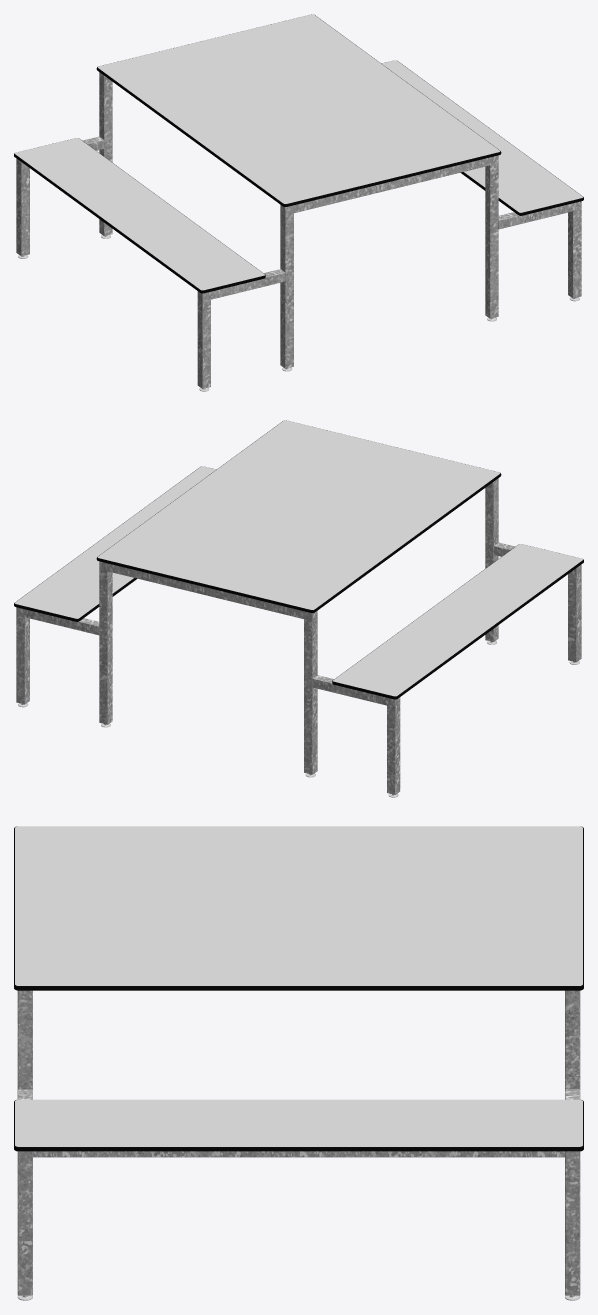
File: sonneta-150.glb
3 renders of one model, top to bottom at view 1: azimuth 30°, elevation 25°; view 2: azimuth 150°, elevation 25°; view 3: azimuth 270°, elevation 25°, orthographic. The views are drawn at different scales.
Visible parts, largest first — view 1: Tischplatte, Sitzplatte, Gestell, HPL Kante; view 2: Tischplatte, Sitzplatte, Gestell, HPL Kante; view 3: Tischplatte, Sitzplatte, Gestell, HPL Kante.
Part boxes in pixels (box(x1,y1,x2,y2)): Tischplatte: box(97, 14, 500, 203); Sitzplatte: box(14, 60, 582, 290); Gestell: box(16, 72, 581, 388); HPL Kante: box(14, 14, 583, 293); Tischplatte: box(97, 420, 500, 609); Sitzplatte: box(15, 466, 583, 696); Gestell: box(16, 478, 581, 794); HPL Kante: box(14, 420, 583, 699); Tischplatte: box(15, 826, 582, 985); Sitzplatte: box(15, 1099, 582, 1146); Gestell: box(17, 990, 580, 1295); HPL Kante: box(14, 826, 583, 1151).
Bounding box in the file's own units: 1.76 × 0.74 × 1.5.
Materials: 3 (1 with a texture image).
